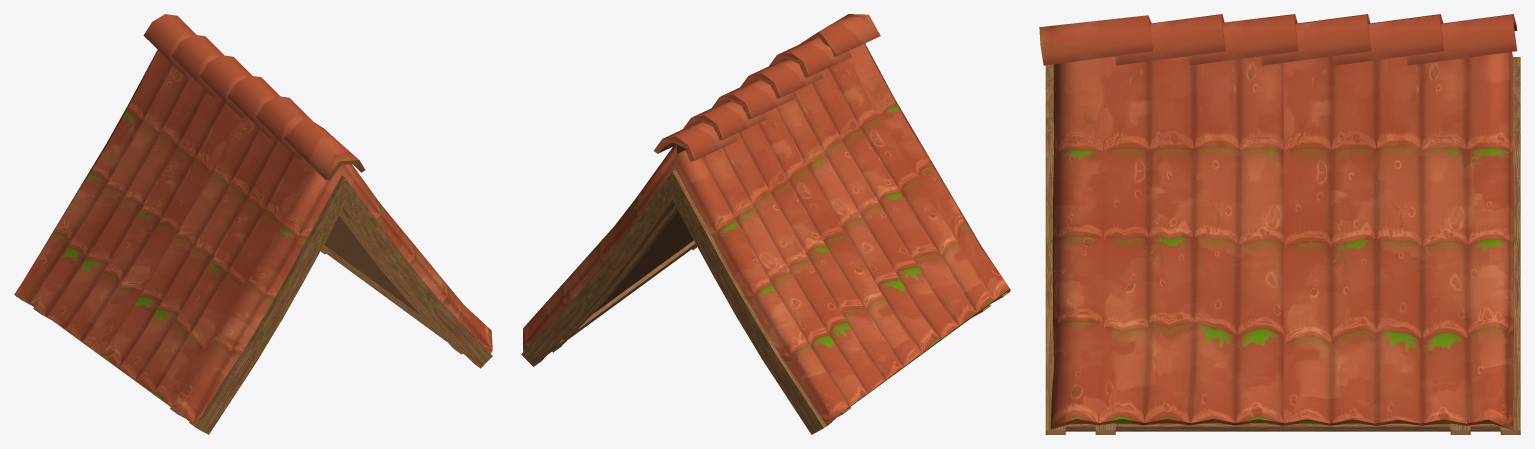
Rendered from Roof_RoundTiles_4x4_Mid.glb.
3 renders of one model, left to right at view 1: azimuth 30°, elevation 25°; view 2: azimuth 150°, elevation 25°; view 3: azimuth 270°, elevation 25°, orthographic. The views are drawn at different scales.
Parts seen in each view (by area): view 1: Roof_RoundTiles_4x4; view 2: Roof_RoundTiles_4x4; view 3: Roof_RoundTiles_4x4.
Boxes of the visible parts, left/top/right/bottom form: Roof_RoundTiles_4x4: left=14, top=14, right=492, bottom=434; Roof_RoundTiles_4x4: left=521, top=14, right=1010, bottom=434; Roof_RoundTiles_4x4: left=1039, top=14, right=1520, bottom=434.
Size of the model in its own units: 5.51 by 4.25 by 5.56.
2 materials, 2 textured.
